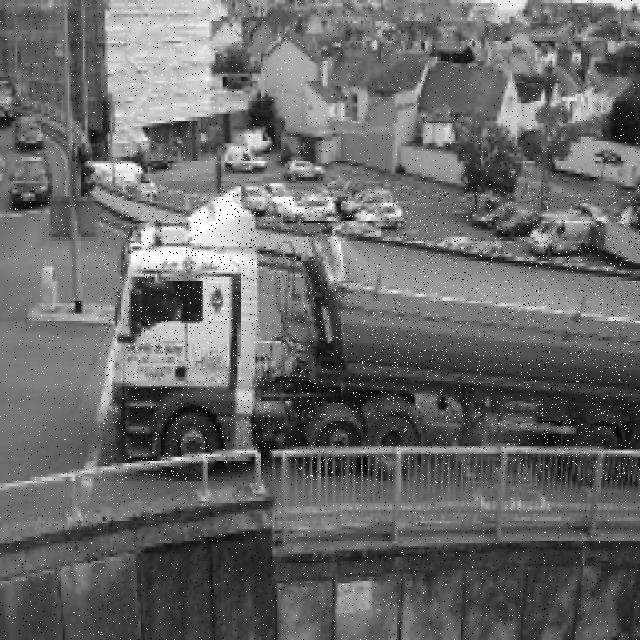Box Truck: (99, 189, 640, 483)
